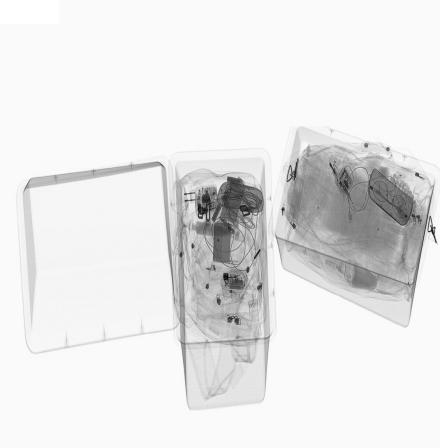Powerbank: (213, 219, 234, 267)
